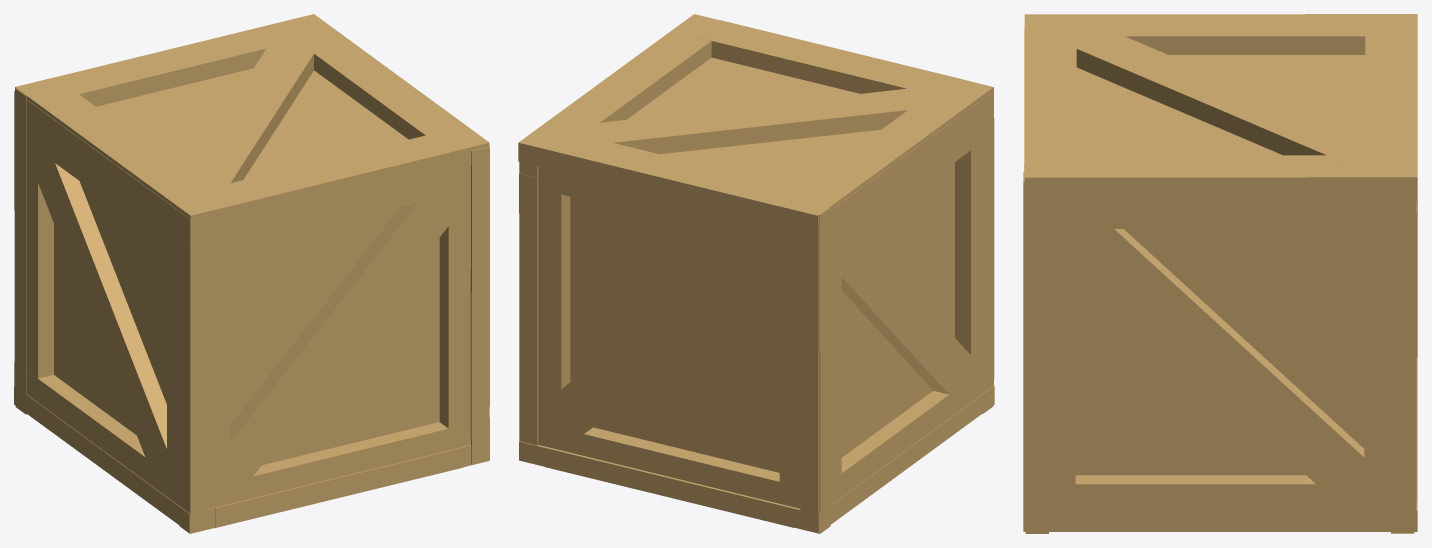
File: wood_box.fbx
3 views of the same model, side by side, from view 1: azimuth 30°, elevation 25°; view 2: azimuth 150°, elevation 25°; view 3: azimuth 270°, elevation 25° (orthographic). The views are drawn at different scales.
Parts seen in each view (by area): view 1: BOX BROUN.005, BOX BROUN.003, BOX BROUN.001, BOX BROUN.004, BOX BROUN.002, BOX BROUN.006; view 2: BOX BROUN.006, BOX BROUN.003, BOX BROUN.001, BOX BROUN.004, BOX BROUN.002; view 3: BOX BROUN.002, BOX BROUN.003, BOX BROUN.005, BOX BROUN.004.
Boxes of the visible parts, x1,y1,x2,y2 form: BOX BROUN.005: [179, 166, 489, 533]; BOX BROUN.003: [15, 14, 489, 230]; BOX BROUN.001: [14, 91, 208, 532]; BOX BROUN.004: [14, 385, 471, 532]; BOX BROUN.002: [470, 146, 489, 464]; BOX BROUN.006: [15, 88, 26, 414]; BOX BROUN.006: [538, 166, 830, 533]; BOX BROUN.003: [518, 14, 993, 234]; BOX BROUN.001: [800, 91, 994, 532]; BOX BROUN.004: [519, 386, 994, 533]; BOX BROUN.002: [519, 162, 538, 445]; BOX BROUN.002: [1023, 171, 1416, 531]; BOX BROUN.003: [1024, 14, 1417, 198]; BOX BROUN.005: [1025, 198, 1048, 533]; BOX BROUN.004: [1025, 357, 1417, 531].
Size of the model in its own units: 4.51 by 4.59 by 4.59.
